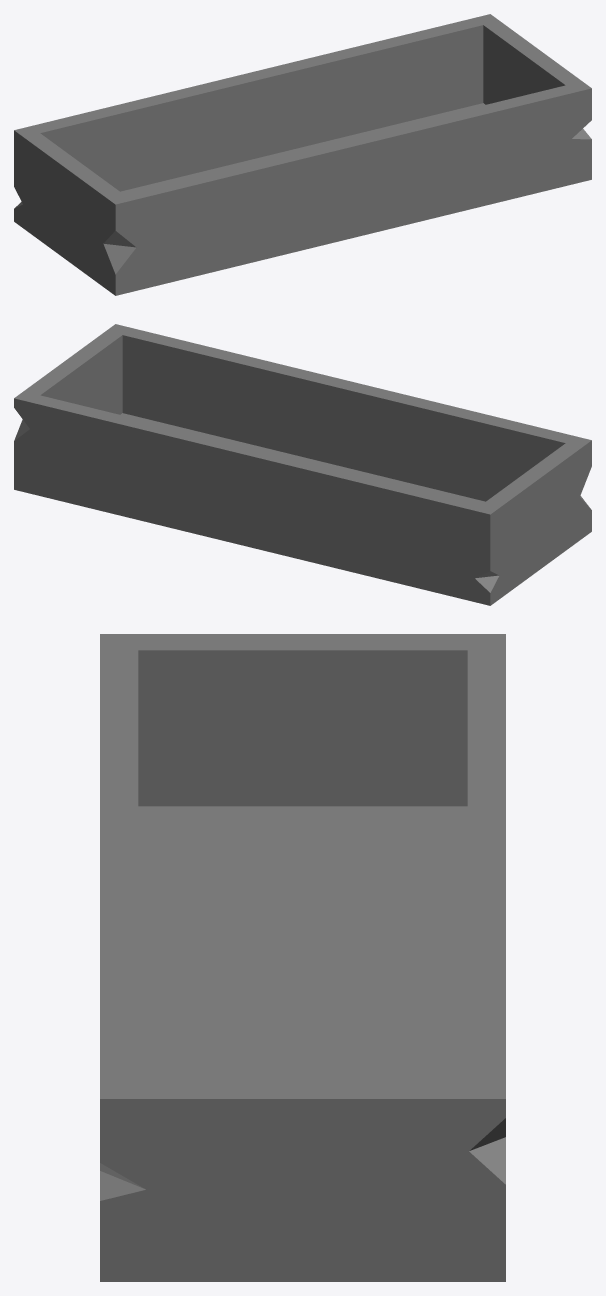
The model's file is stone_tomb1.fbx.
3 renders of one model, top to bottom at view 1: azimuth 30°, elevation 25°; view 2: azimuth 150°, elevation 25°; view 3: azimuth 270°, elevation 25°, orthographic. The views are drawn at different scales.
Parts seen in each view (by area): view 1: stone_tomb1; view 2: stone_tomb1; view 3: stone_tomb1.
Boxes of the visible parts, x1,y1,x2,y2 form: stone_tomb1: (14, 14, 591, 295); stone_tomb1: (14, 324, 591, 605); stone_tomb1: (100, 634, 505, 1281).
Bounding box in the file's own units: 331 × 60.63 × 122.
